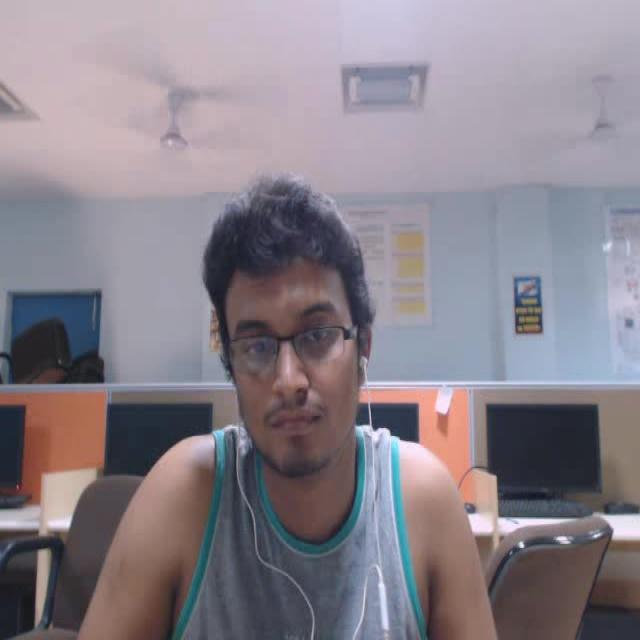Engaged: (185, 144, 430, 539)
